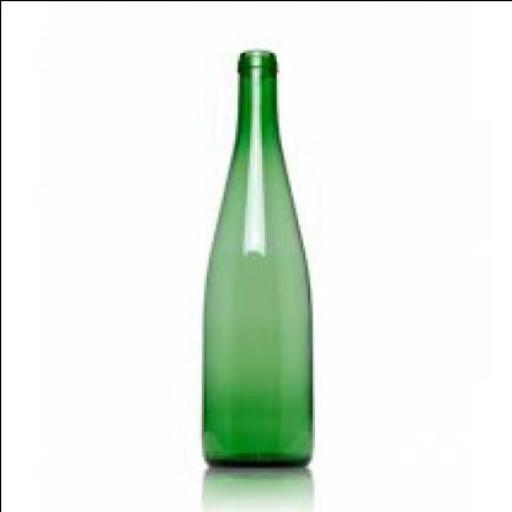glass: (203, 48, 316, 464)
